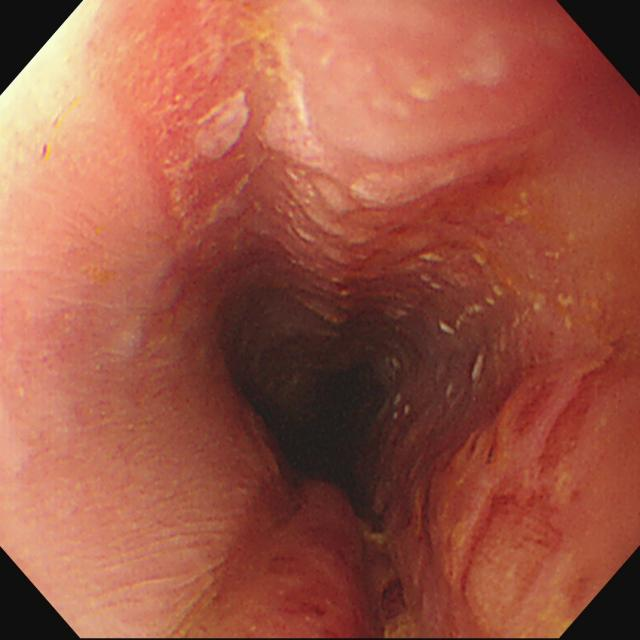A: (357, 433, 469, 640), (350, 172, 521, 263), (539, 342, 640, 486), (459, 480, 569, 595), (482, 379, 557, 470)
E: (296, 371, 375, 486)
J: (258, 44, 344, 246), (350, 163, 458, 216), (190, 88, 252, 163), (458, 29, 508, 89), (439, 296, 495, 335), (470, 345, 485, 386), (392, 394, 410, 422)
